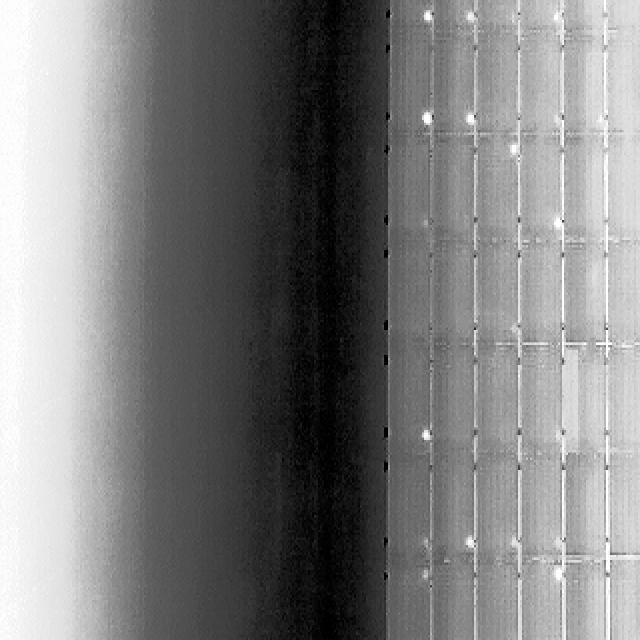Hotspots: (538, 210, 564, 236), (458, 532, 476, 555), (416, 423, 432, 446), (507, 139, 522, 163), (462, 110, 478, 132), (418, 110, 433, 132), (548, 568, 566, 584), (464, 6, 477, 27), (552, 532, 565, 551), (507, 535, 520, 552), (420, 9, 434, 24), (595, 112, 605, 133), (553, 110, 561, 128), (502, 637, 520, 640)
PV-modules: (562, 242, 613, 346), (474, 136, 521, 245), (427, 27, 473, 138), (426, 134, 473, 242), (473, 454, 519, 564), (472, 28, 519, 135), (520, 451, 566, 560), (561, 451, 607, 559), (561, 347, 607, 455), (560, 136, 606, 244), (427, 347, 473, 455), (427, 453, 472, 563), (474, 344, 519, 453), (475, 241, 521, 347), (521, 347, 566, 454), (521, 136, 565, 244), (390, 24, 432, 137), (388, 451, 431, 560), (428, 244, 473, 348), (521, 26, 565, 132), (560, 31, 604, 137), (389, 347, 431, 458), (521, 243, 566, 346), (389, 244, 432, 348), (598, 242, 640, 348), (389, 136, 431, 242), (600, 348, 640, 458), (604, 132, 640, 240), (604, 27, 640, 135), (518, 560, 566, 640), (472, 560, 518, 640), (560, 560, 606, 640), (426, 562, 472, 640), (606, 450, 640, 555), (388, 562, 430, 640), (606, 557, 640, 640), (557, 0, 607, 32), (425, 0, 475, 30), (471, 0, 517, 31), (520, 0, 562, 30), (604, 0, 640, 30), (606, 0, 640, 30)
